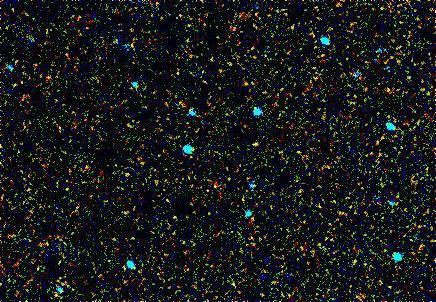star: (242, 125, 272, 155)
